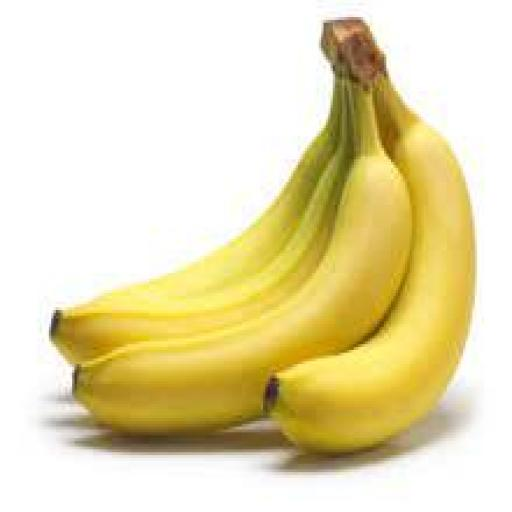banana: (75, 89, 411, 435), (266, 77, 474, 452), (54, 148, 346, 364), (89, 89, 339, 307)
